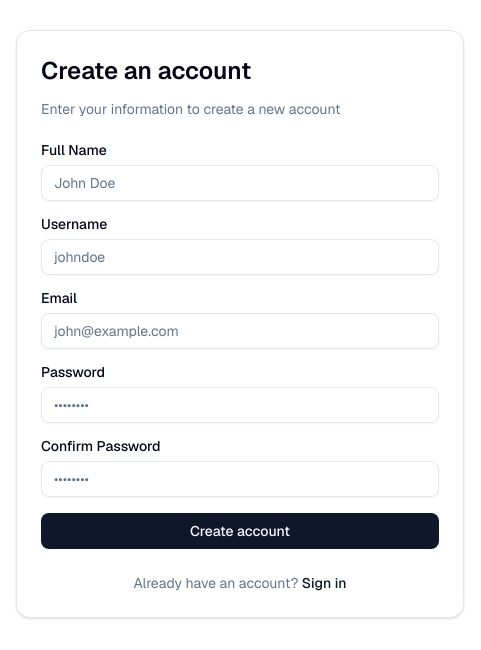
Test: SignupPage › Form Validation › Email Validation › should show validation error when email is empty
Click the field labelled "Email".
click(240, 331)  # box [41,313,439,349]
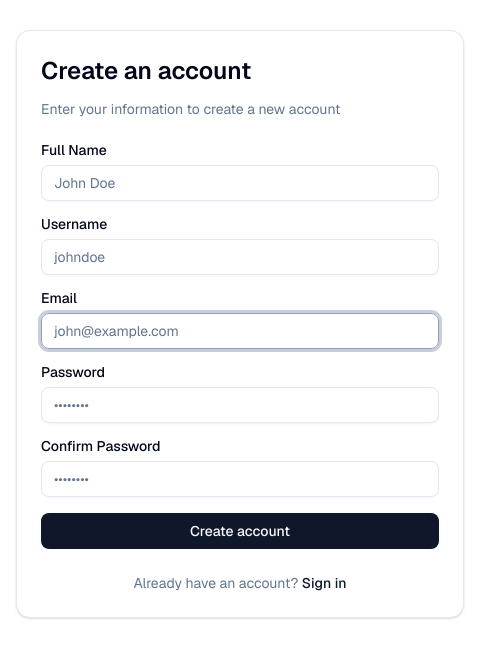
Press Tab
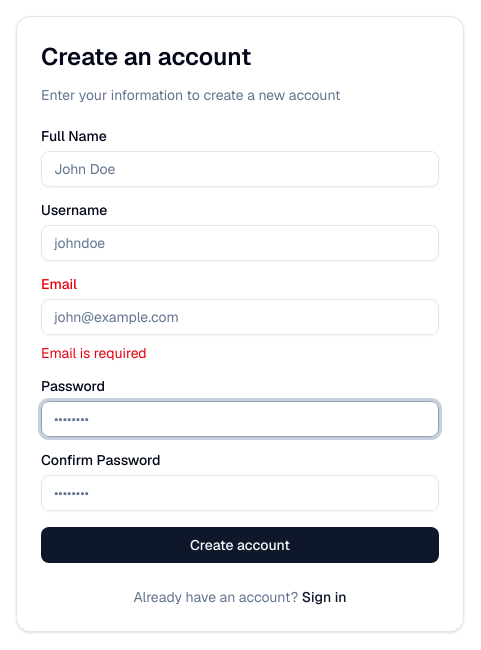
Check: the text "Email is required" is shown, box [41,344,147,362]
